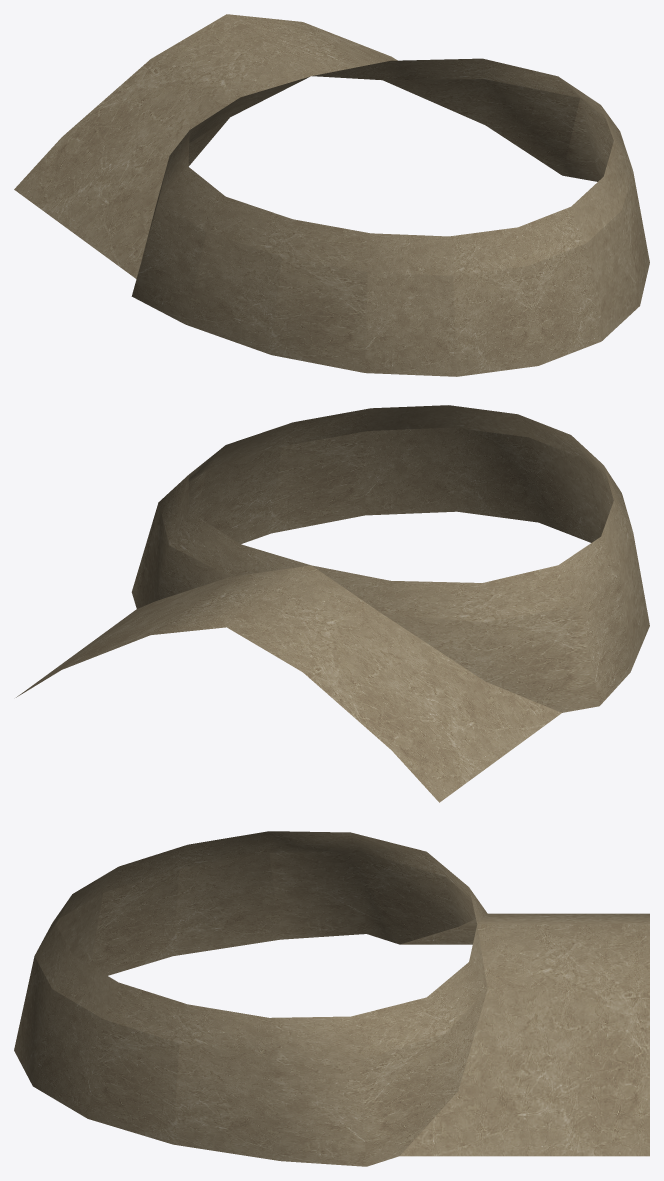
File: Wall01_Maincity_002.FBX
The picture shows the model from 3 angles, top to bottom: view 1: azimuth 30°, elevation 25°; view 2: azimuth 150°, elevation 25°; view 3: azimuth 270°, elevation 25°; orthographic projection.
Parts seen in each view (by area): view 1: Wall01_Maincity_002; view 2: Wall01_Maincity_002; view 3: Wall01_Maincity_002.
Part boxes in pixels (<box>): Wall01_Maincity_002: <box>14,14,649,376</box>; Wall01_Maincity_002: <box>16,405,649,802</box>; Wall01_Maincity_002: <box>14,831,649,1166</box>.
Bounding box in the file's own units: 2200 × 555 × 2540.
Materials: 1 (1 with a texture image).
